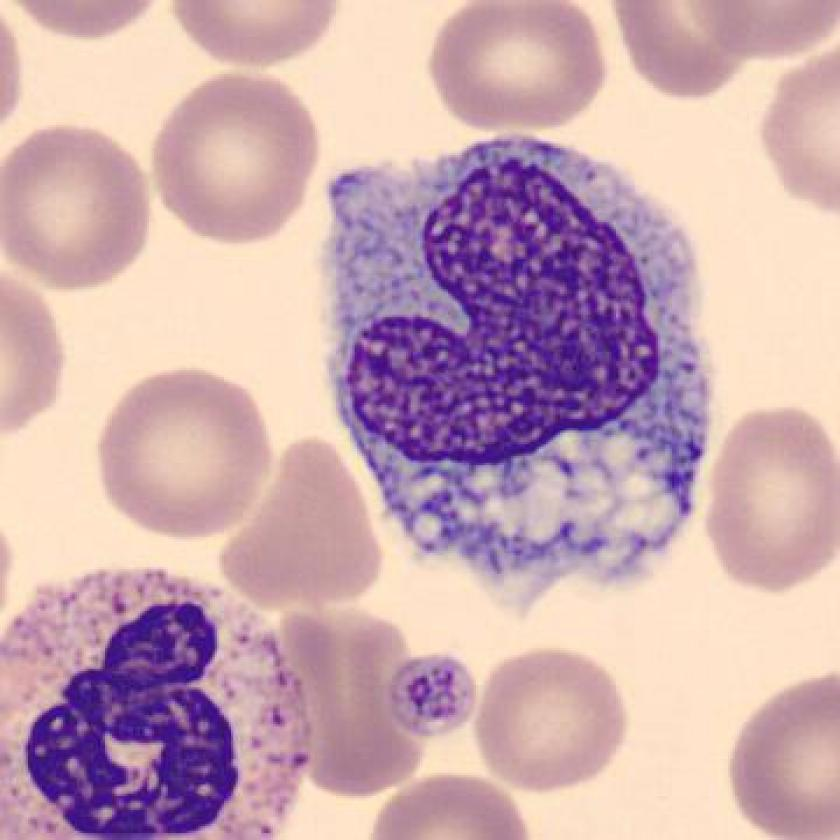monocyte: (293, 115, 734, 617)
